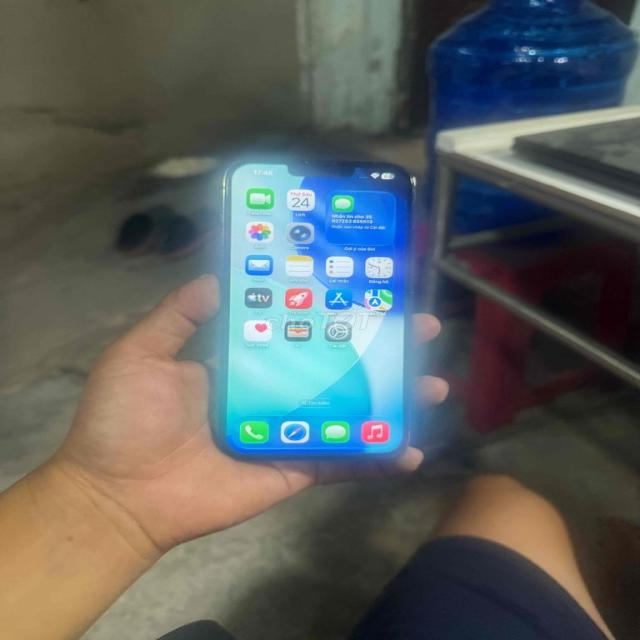gen_12_13: (210, 153, 429, 467)
